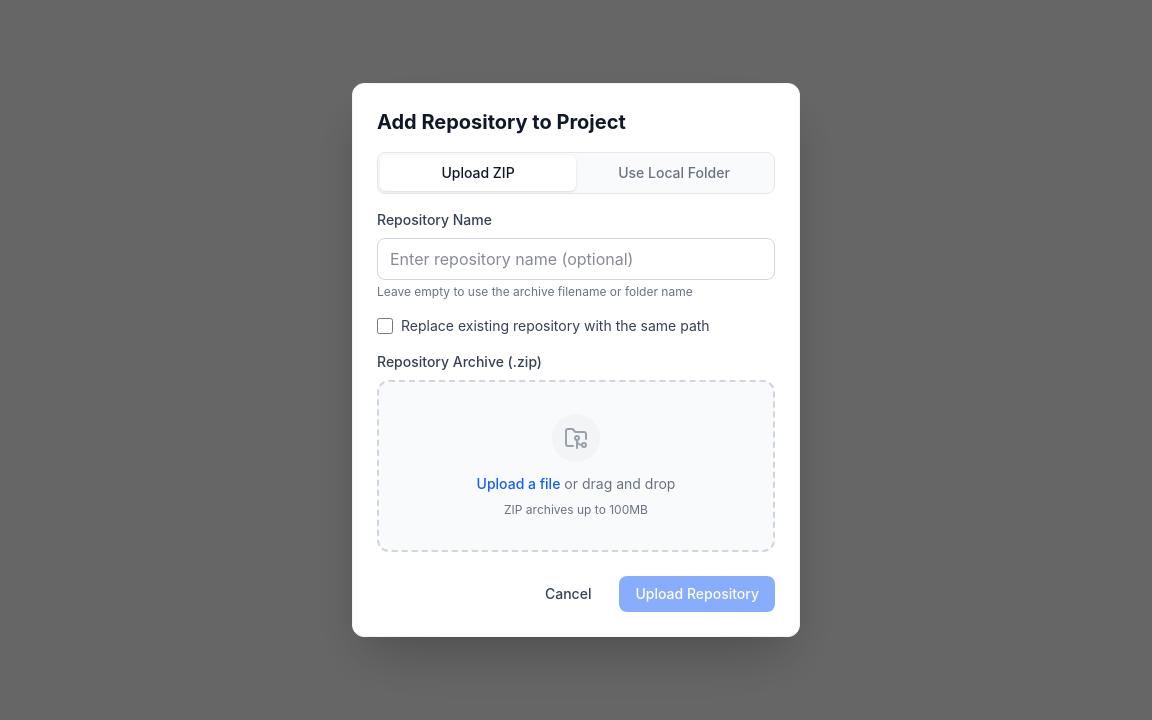
Scenario: AddRepoModal › switches to local folder mode
The width and height of the screenshot is (1152, 720).
Click the button "Use Local Folder" at coordinates (674, 173), box [576,155,772,191]
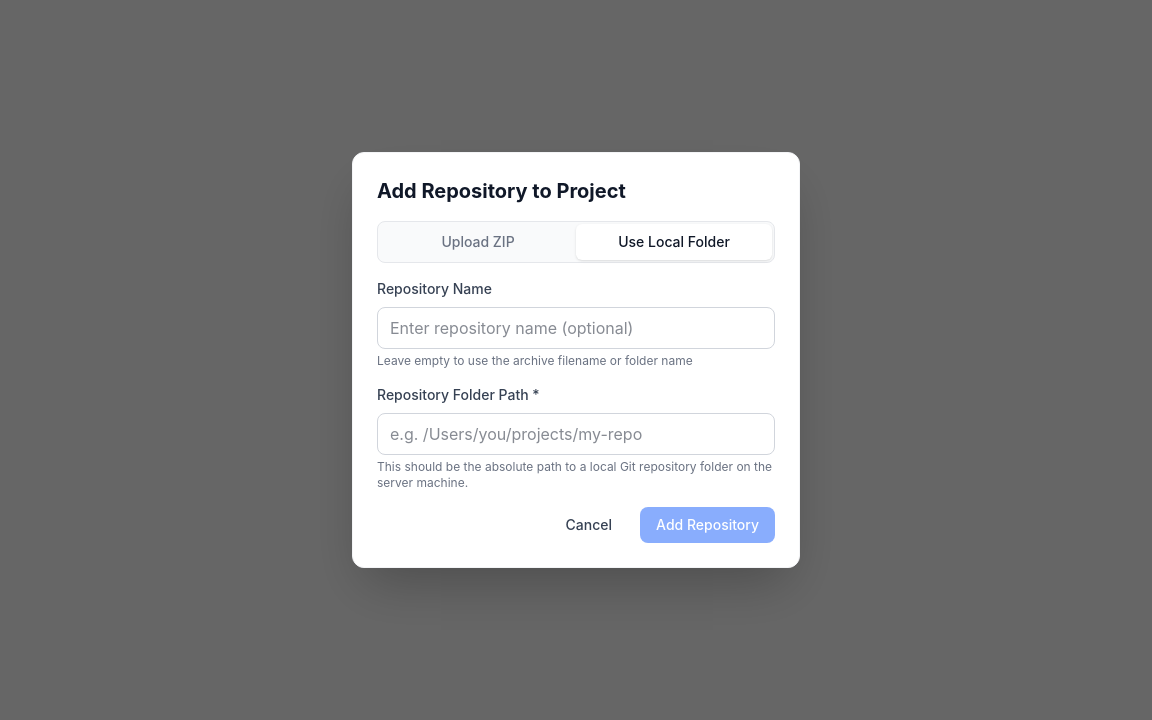
Now the text "Repository Folder Path *" is shown, box [377,386,540,403]
Now the text "Repository Archive (.zip)" is gone
